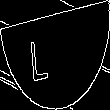L_N: (44, 27, 66, 83)
